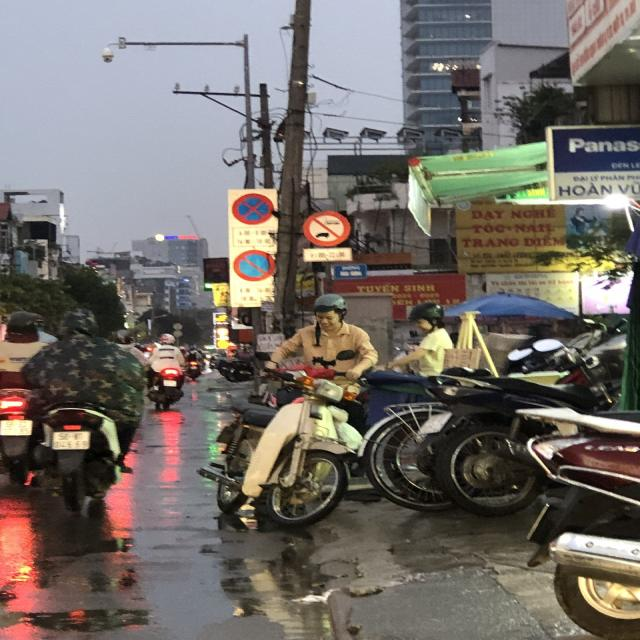Bien bao cam dung xe va do xe: (230, 191, 277, 225)
Bien bao cam xe oto khach va xe oto tai: (301, 210, 354, 247)
